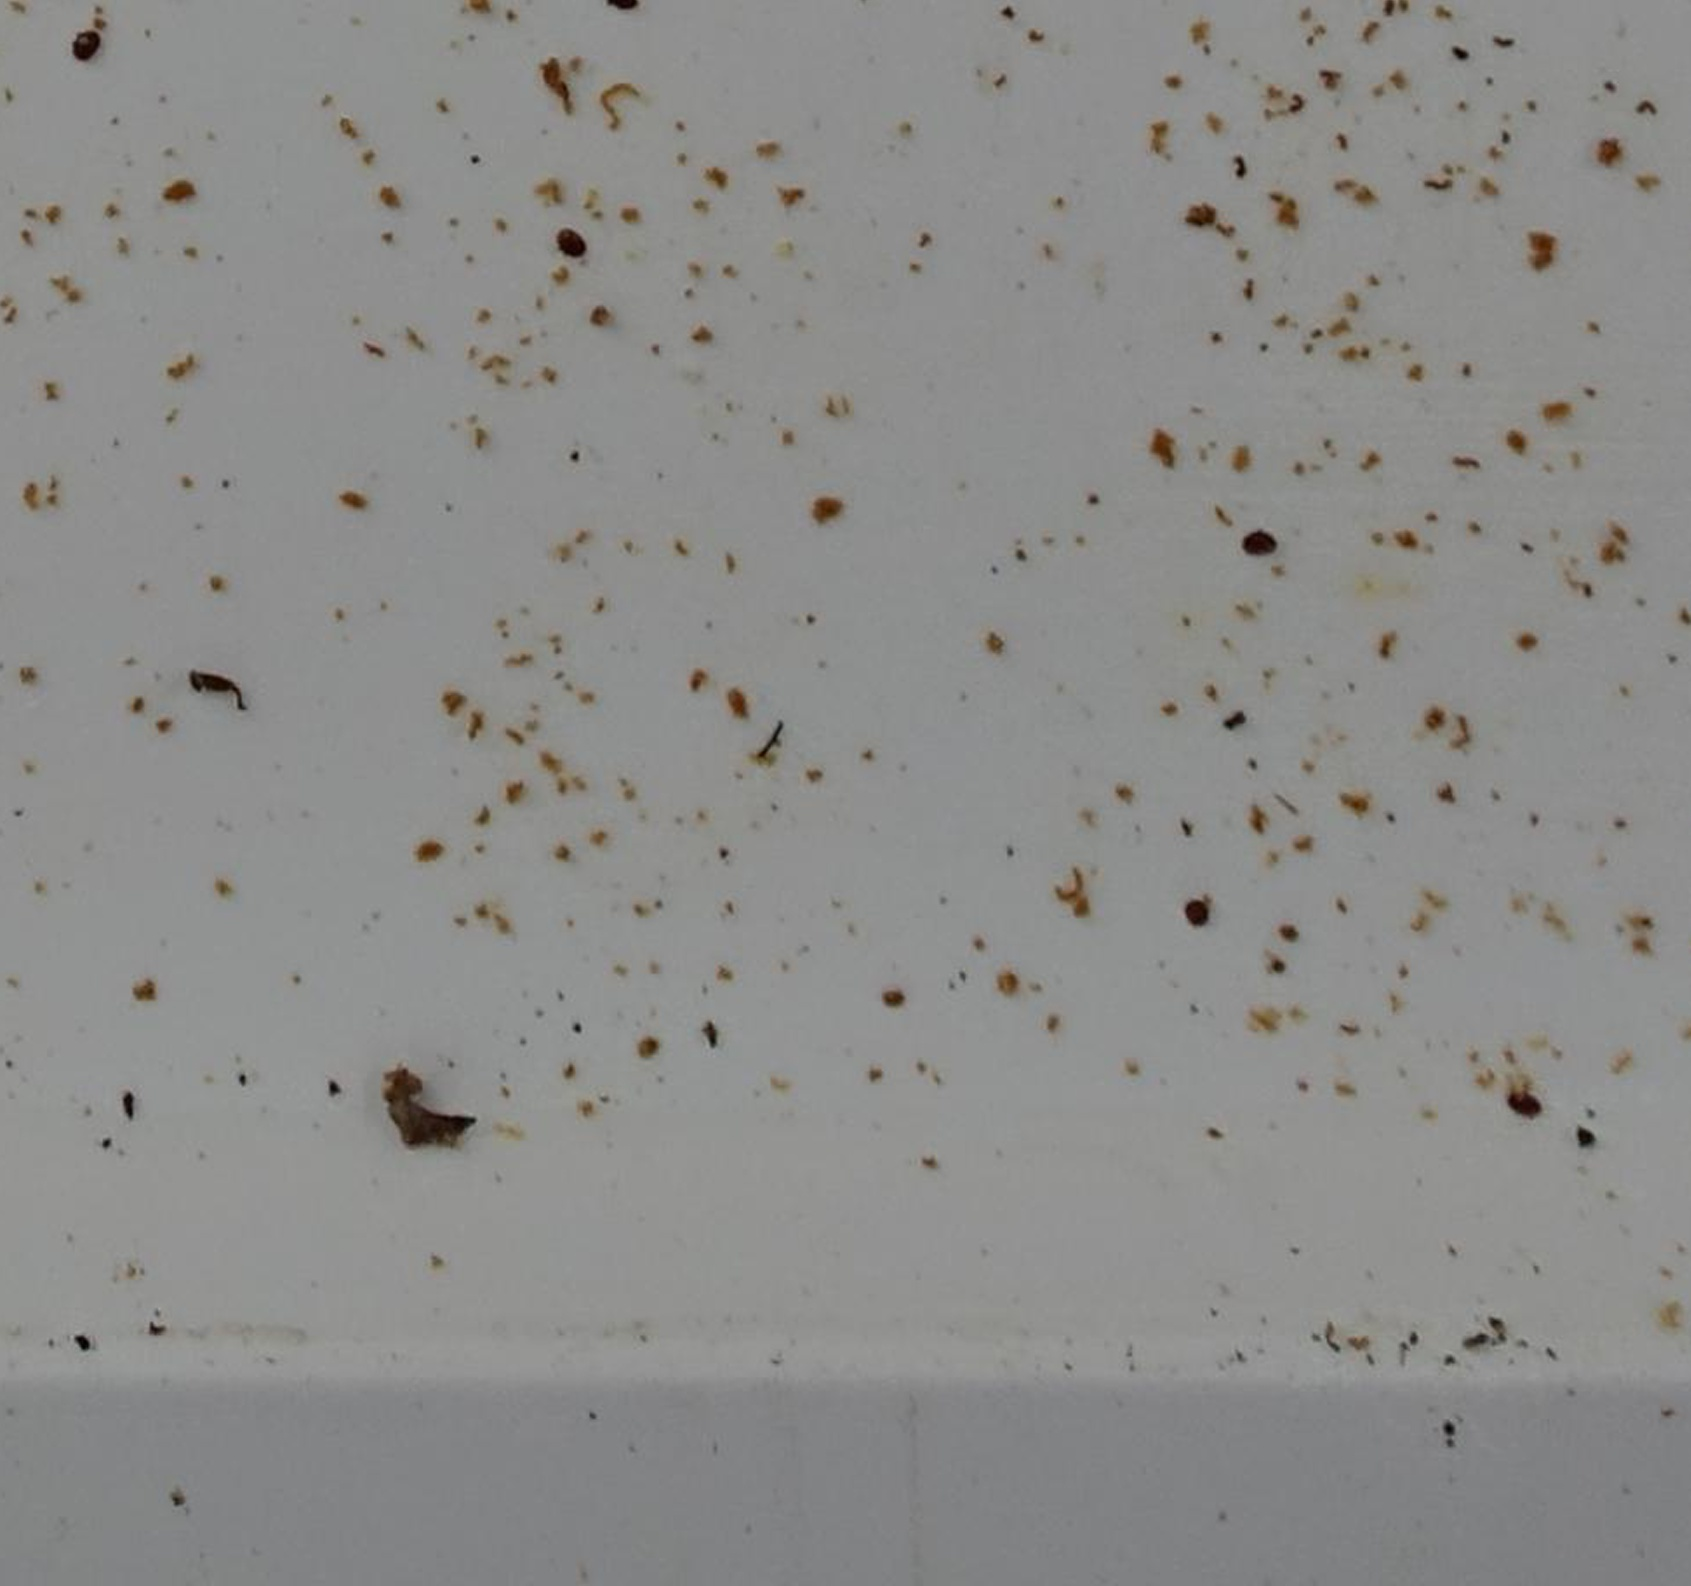Varroa: (1505, 1085, 1542, 1122), (70, 27, 100, 60), (1244, 534, 1272, 560), (559, 224, 585, 250), (1184, 902, 1206, 926)
